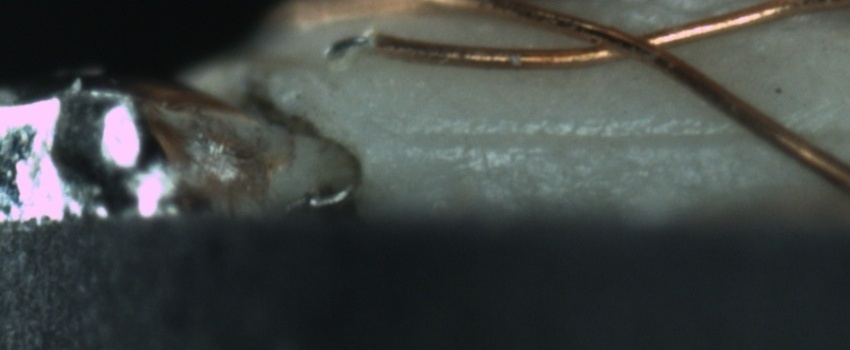CL: (591, 20, 682, 70)
DL: (397, 110, 849, 166)
